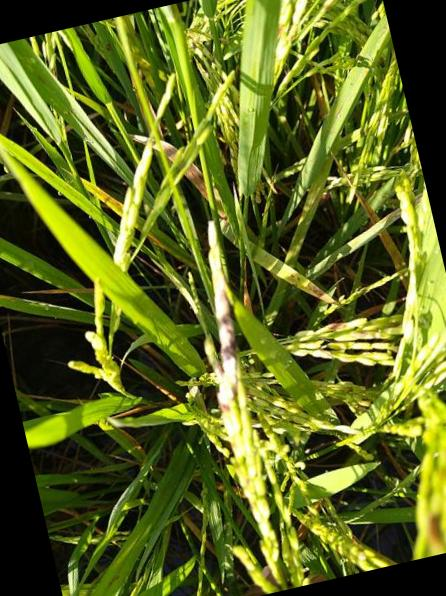Leaf Streak: (278, 265, 340, 304)
Panicle Blight: (213, 271, 242, 437)
